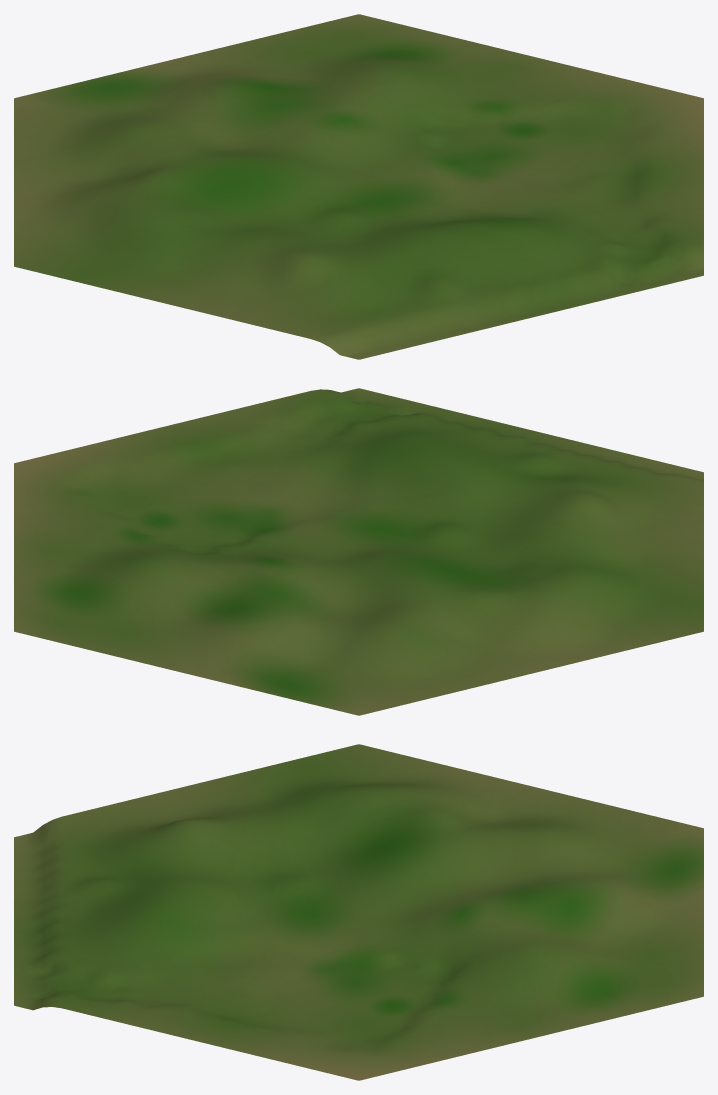
File: River1A.glb
3 views of the same model, one above another, from view 1: azimuth 30°, elevation 25°; view 2: azimuth 150°, elevation 25°; view 3: azimuth 270°, elevation 25° (orthographic).
Visible parts, largest first — view 1: Circle; view 2: Circle; view 3: Circle.
Part boxes in pixels (x1,y1,x2,y2): Circle: (14, 14, 703, 359); Circle: (14, 388, 703, 715); Circle: (14, 744, 703, 1080).
Size of the model in its own units: 400 by 18.04 by 346.
1 material, 1 textured.
